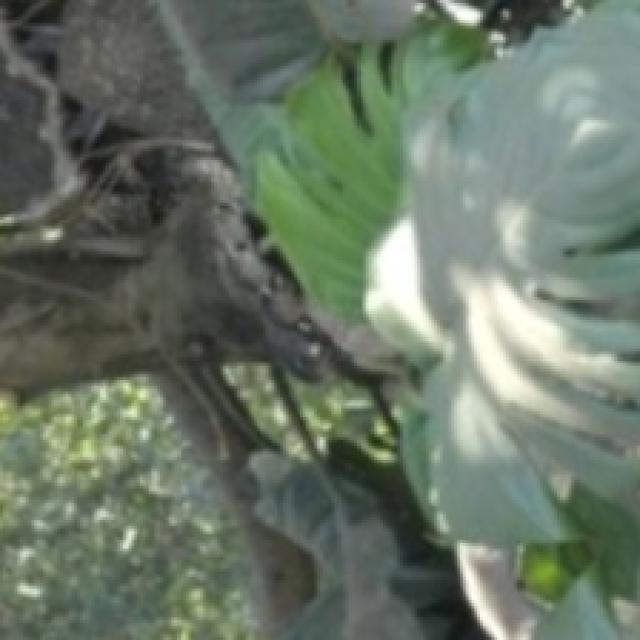reticulated python: (181, 154, 358, 379)
